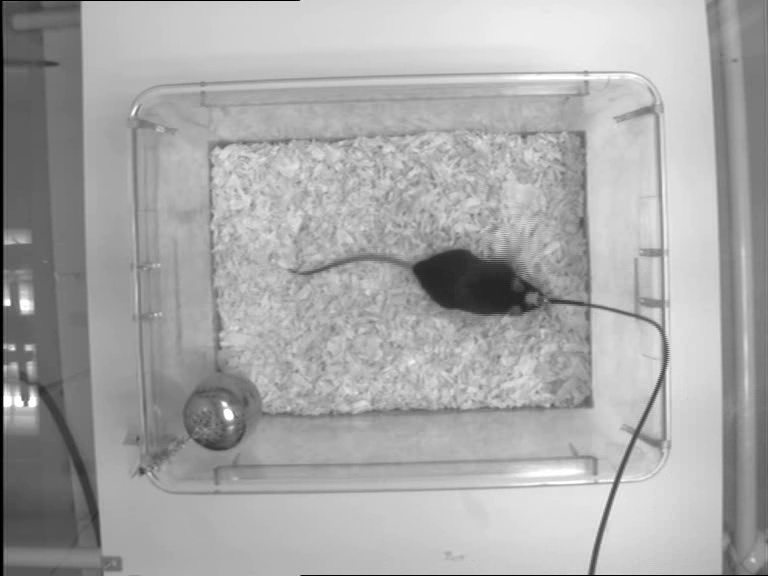mice: (284, 245, 551, 321)
